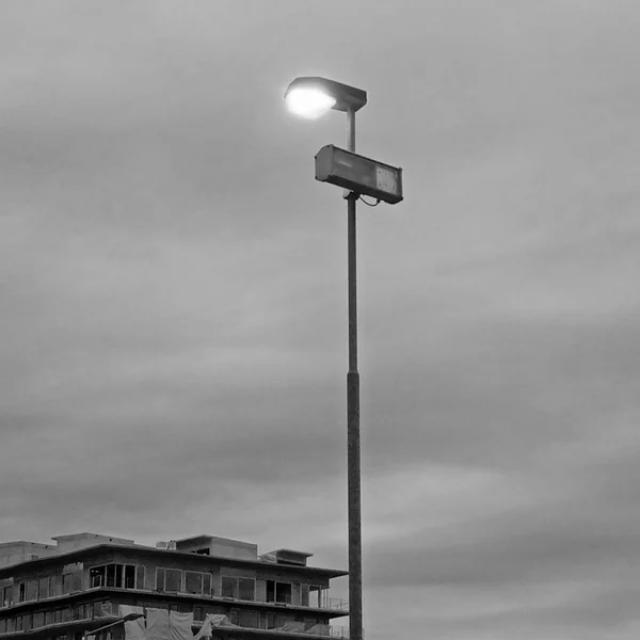Pole: (285, 77, 403, 639)
